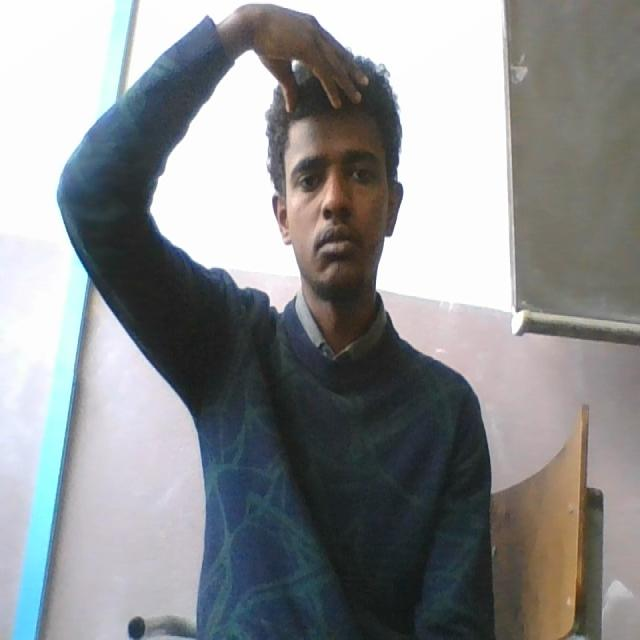mengist: (248, 0, 415, 161)
